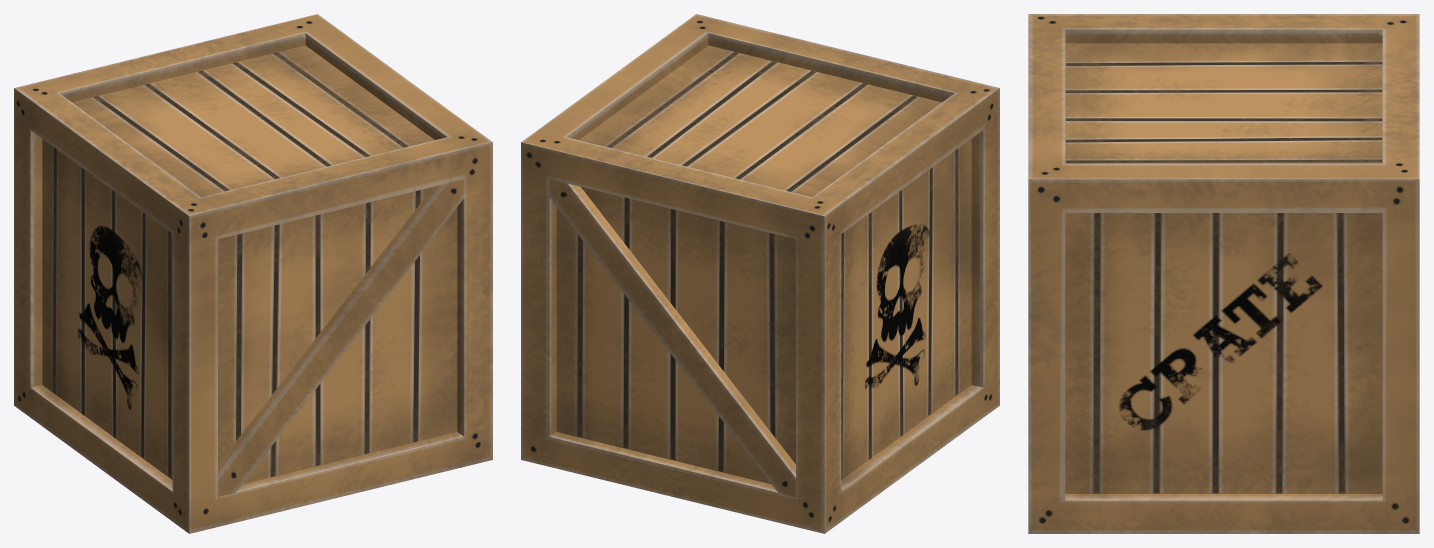
File: Crate.fbx
3 renders of one model, left to right at view 1: azimuth 30°, elevation 25°; view 2: azimuth 150°, elevation 25°; view 3: azimuth 270°, elevation 25°, orthographic. The views are drawn at different scales.
Parts seen in each view (by area): view 1: Crate_LOD0; view 2: Crate_LOD0; view 3: Crate_LOD0.
Part boxes in pixels (x1,y1,x2,y2): Crate_LOD0: [14, 14, 492, 533]; Crate_LOD0: [521, 14, 999, 533]; Crate_LOD0: [1028, 14, 1419, 533].
Size of what is drawn, in the model's own units: 60 by 60 by 60.
